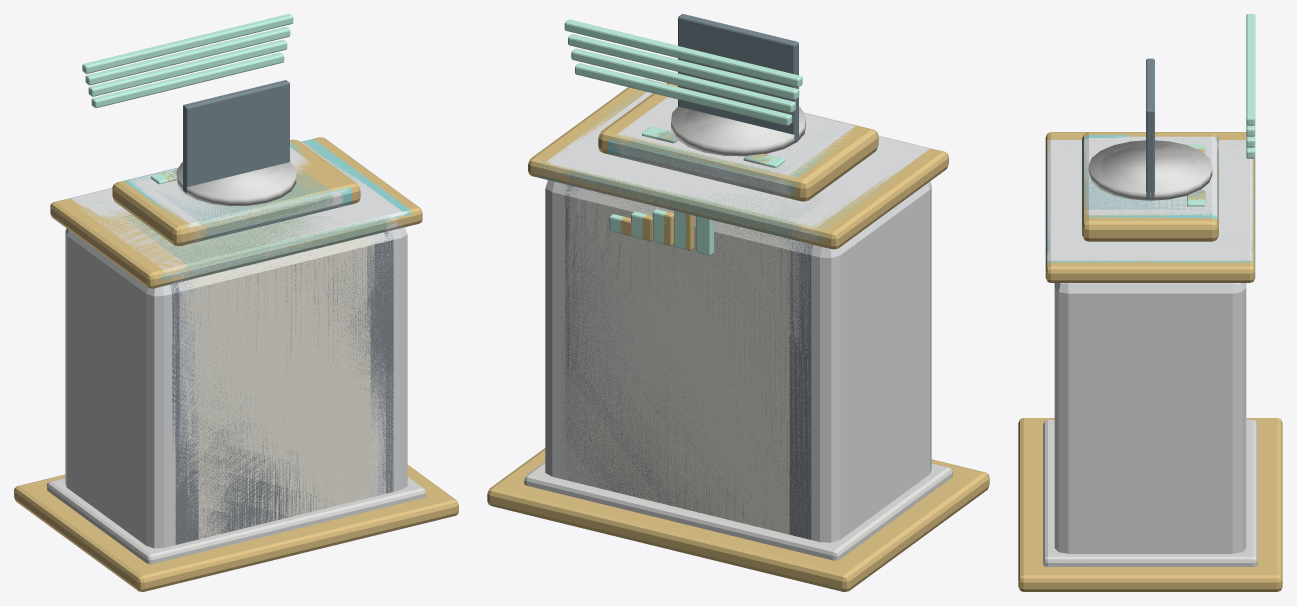
Rendered from Gear06.fbx.
3 views of the same model, side by side, from view 1: azimuth 30°, elevation 25°; view 2: azimuth 150°, elevation 25°; view 3: azimuth 270°, elevation 25° (orthographic). The views are drawn at different scales.
Parts seen in each view (by area): view 1: Gear06_V2_Ivory, Gear06_V10_Platinum, Gear06_V10_Gold, Gear06_V1_Ivory, Gear06_V7_Graphite, Gear06_V6_Platinum, Gear06_V9_Gold, Gear06_V1_Sage, Gear06_V8_Graphite, Gear06_V5_Platinum, Gear06_V4_Linen, Gear06_V10_Chrome (+25 smaller); view 2: Gear06_V2_Ivory, Gear06_V10_Platinum, Gear06_V10_Gold, Gear06_V9_Platinum, Gear06_V1_Ivory, Gear06_V3_Linen, Gear06_V6_Platinum, Gear06_V8_Graphite, Gear06_V9_Gold, Gear06_V7_Graphite, Gear06_V5_Platinum, Gear06_V10_Chrome (+24 smaller); view 3: Gear06_V10_Platinum, Gear06_V10_Gold, Gear06_V5_Platinum, Gear06_V6_Platinum, Gear06_V9_Gold, Gear06_V10_Chrome, Gear06_V2_Blue, Gear06_V9_Chrome, Gear06_V8_Aqua, Gear06_V4_Chrome, Gear06_V6_Chrome, Gear06_V10_Glow (+9 smaller).
Boxes of the visible parts, x1,y1,x2,y2 form: Gear06_V2_Ivory: [193, 236, 370, 516]; Gear06_V10_Platinum: [65, 227, 407, 548]; Gear06_V10_Gold: [14, 137, 458, 591]; Gear06_V1_Ivory: [197, 242, 366, 538]; Gear06_V7_Graphite: [174, 231, 389, 544]; Gear06_V6_Platinum: [71, 147, 404, 512]; Gear06_V9_Gold: [22, 138, 452, 585]; Gear06_V1_Sage: [121, 169, 385, 278]; Gear06_V8_Graphite: [170, 231, 393, 494]; Gear06_V5_Platinum: [74, 142, 401, 511]; Gear06_V4_Linen: [186, 240, 378, 534]; Gear06_V10_Chrome: [47, 162, 425, 564]; Gear06_V2_Ivory: [587, 190, 786, 533]; Gear06_V10_Platinum: [545, 180, 931, 542]; Gear06_V10_Gold: [487, 78, 989, 591]; Gear06_V9_Platinum: [556, 183, 816, 540]; Gear06_V1_Ivory: [591, 191, 781, 501]; Gear06_V3_Linen: [583, 191, 790, 534]; Gear06_V6_Platinum: [548, 83, 925, 473]; Gear06_V8_Graphite: [561, 185, 813, 539]; Gear06_V9_Gold: [494, 89, 979, 579]; Gear06_V7_Graphite: [565, 185, 807, 492]; Gear06_V5_Platinum: [552, 94, 922, 483]; Gear06_V10_Chrome: [524, 106, 952, 560]; Gear06_V10_Platinum: [1054, 283, 1246, 553]; Gear06_V10_Gold: [1018, 132, 1282, 591]; Gear06_V5_Platinum: [1048, 139, 1251, 256]; Gear06_V6_Platinum: [1047, 138, 1253, 259]; Gear06_V9_Gold: [1018, 134, 1281, 577]; Gear06_V10_Chrome: [1043, 140, 1257, 566]; Gear06_V2_Blue: [1046, 150, 1254, 254]; Gear06_V9_Chrome: [1043, 141, 1257, 558]; Gear06_V8_Aqua: [1045, 135, 1255, 266]; Gear06_V4_Chrome: [1044, 145, 1253, 539]; Gear06_V6_Chrome: [1043, 143, 1256, 552]; Gear06_V10_Glow: [1187, 14, 1255, 206].
Bounding box in the file's own units: 84 × 108 × 58.
